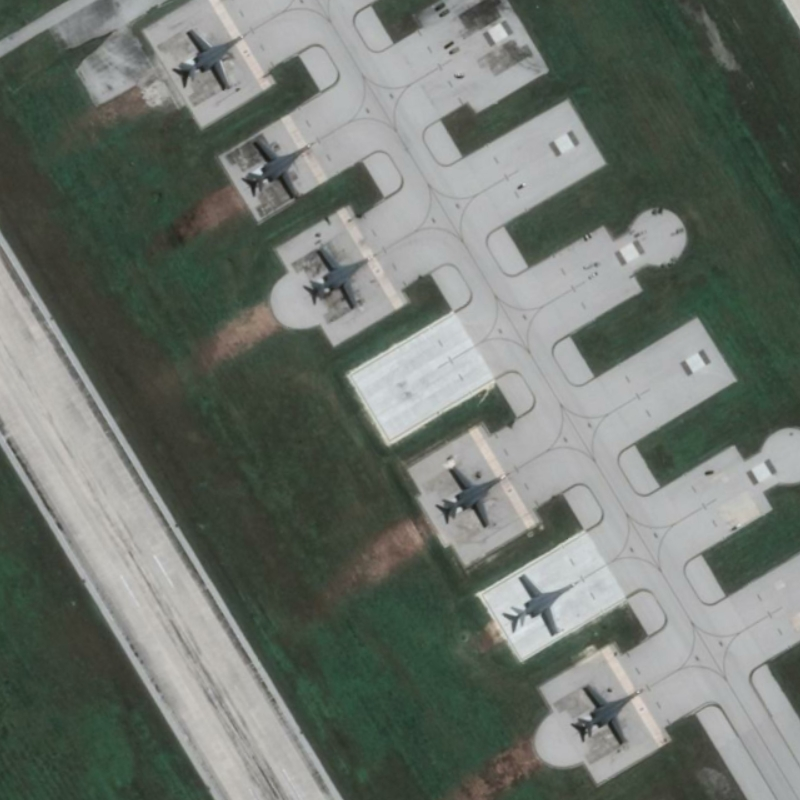A10: (172, 24, 249, 95), (436, 464, 512, 531), (505, 571, 581, 638), (305, 243, 377, 313), (245, 133, 316, 202), (576, 681, 645, 747)
